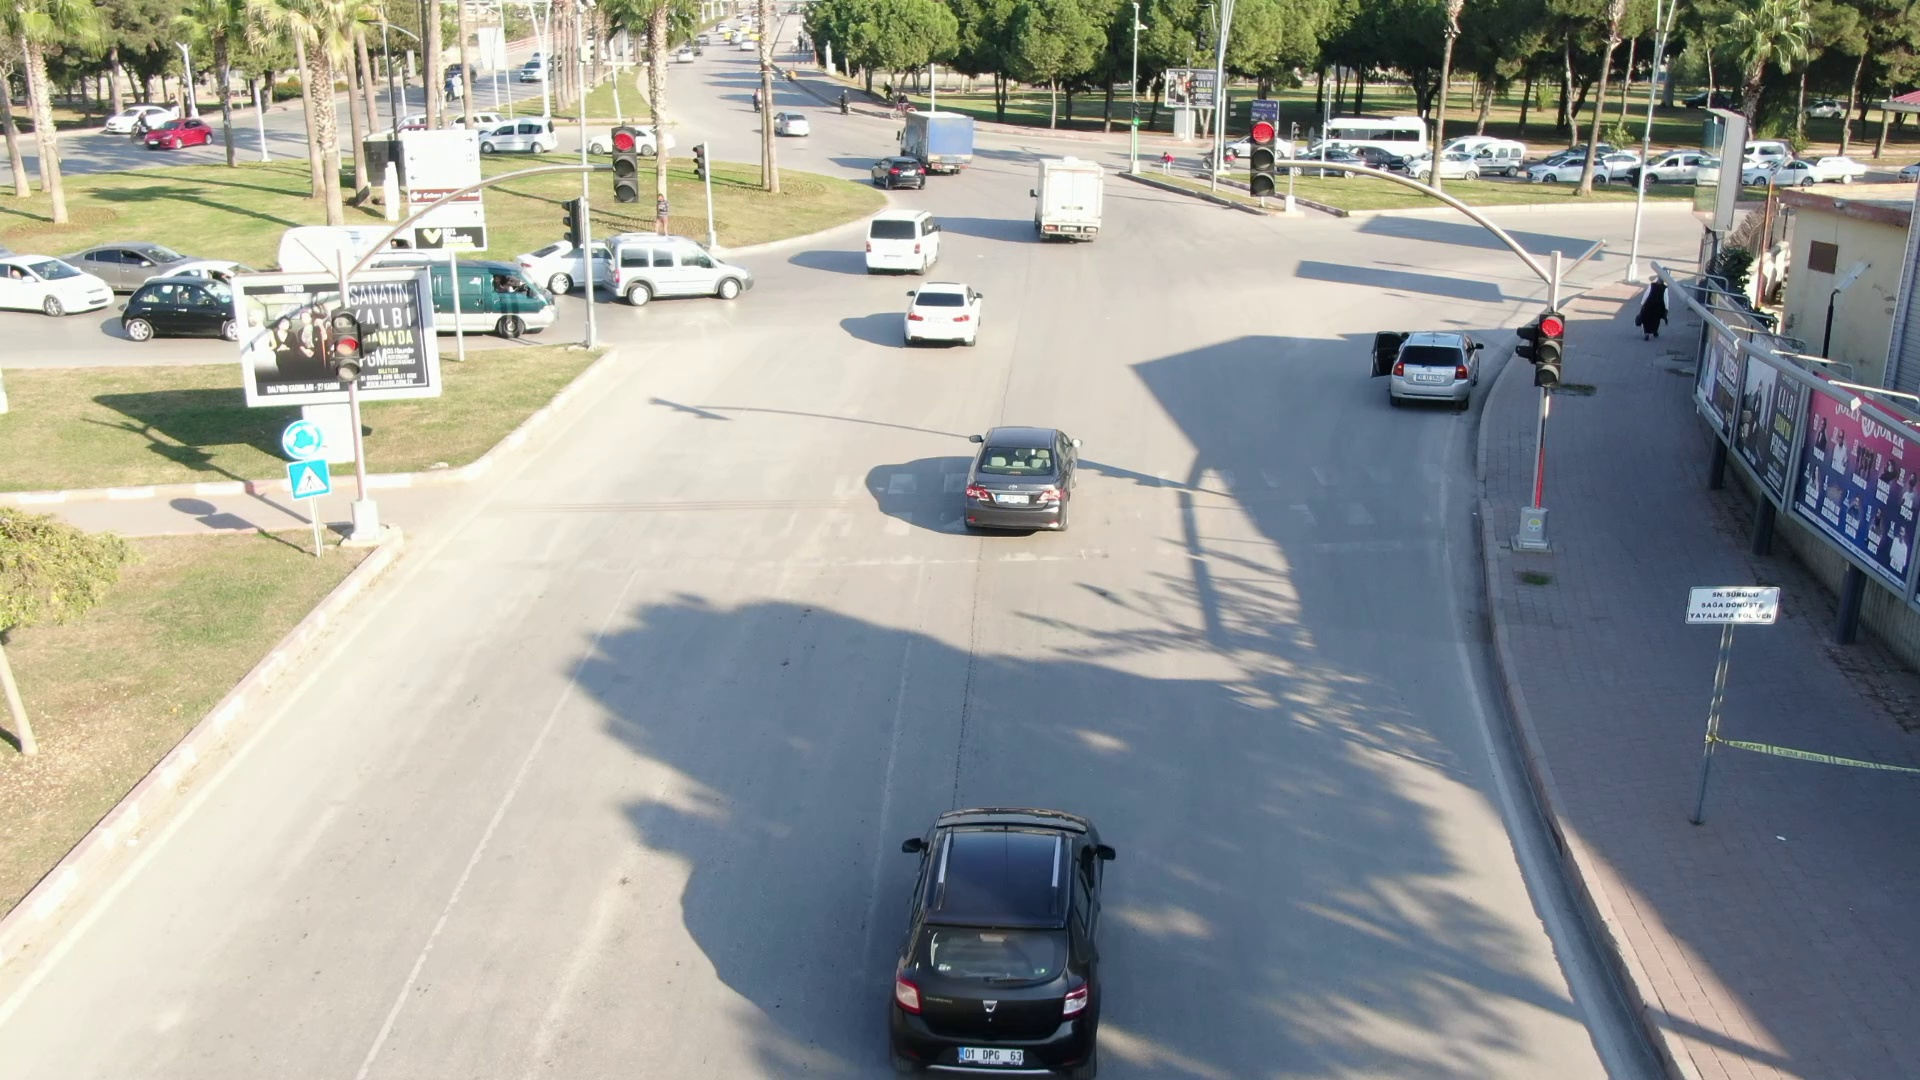car: (876, 786, 1116, 1080), (957, 417, 1094, 545), (601, 223, 764, 323), (116, 261, 248, 355), (1012, 148, 1123, 248), (1365, 323, 1487, 409), (899, 278, 1005, 358), (859, 204, 945, 279), (478, 116, 571, 160), (868, 146, 930, 199)
person: (1626, 267, 1683, 349)
